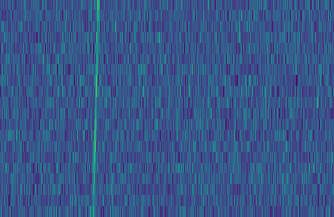signal: (87, 0, 101, 217)
